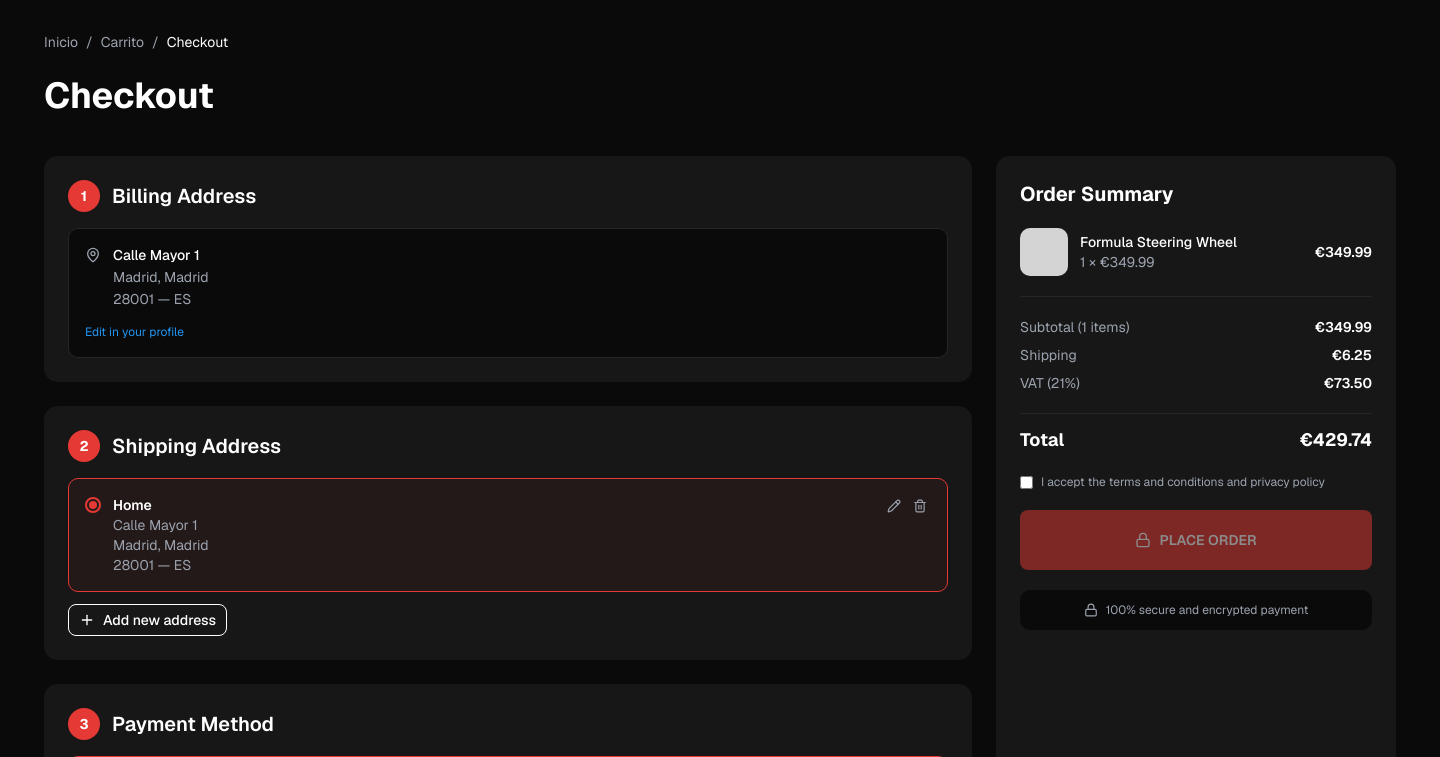
Test case: CheckoutContent › PLACE ORDER button state › is enabled after accepting terms
expect the button "PLACE ORDER" is shown: met, box [1020,510,1372,570]
What coordinates should you click on to do the following:
click the checkbox
I would click on:
 (1026, 482)
Its box is [1020,476,1033,489].
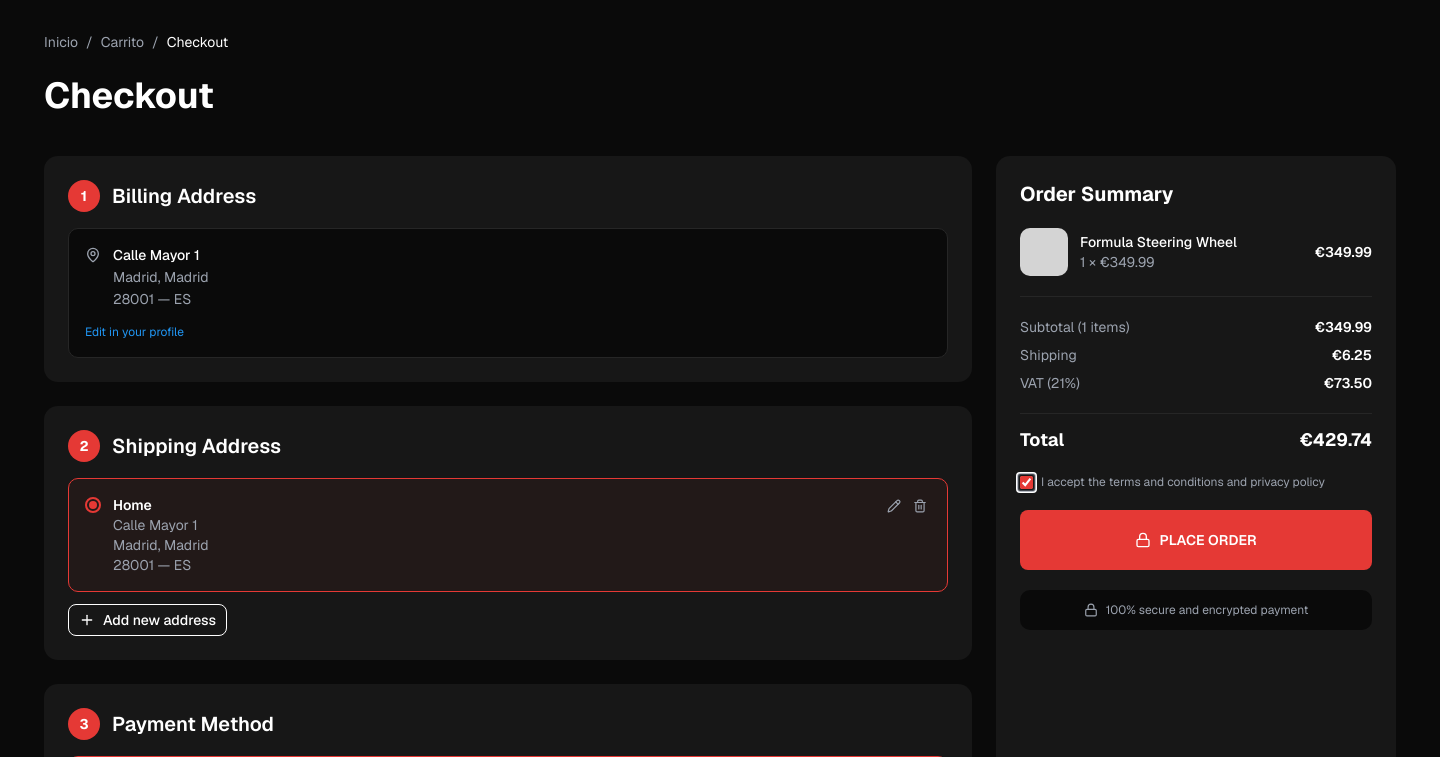
expect the button "PLACE ORDER" is enabled: met, box [1020,510,1372,570]
